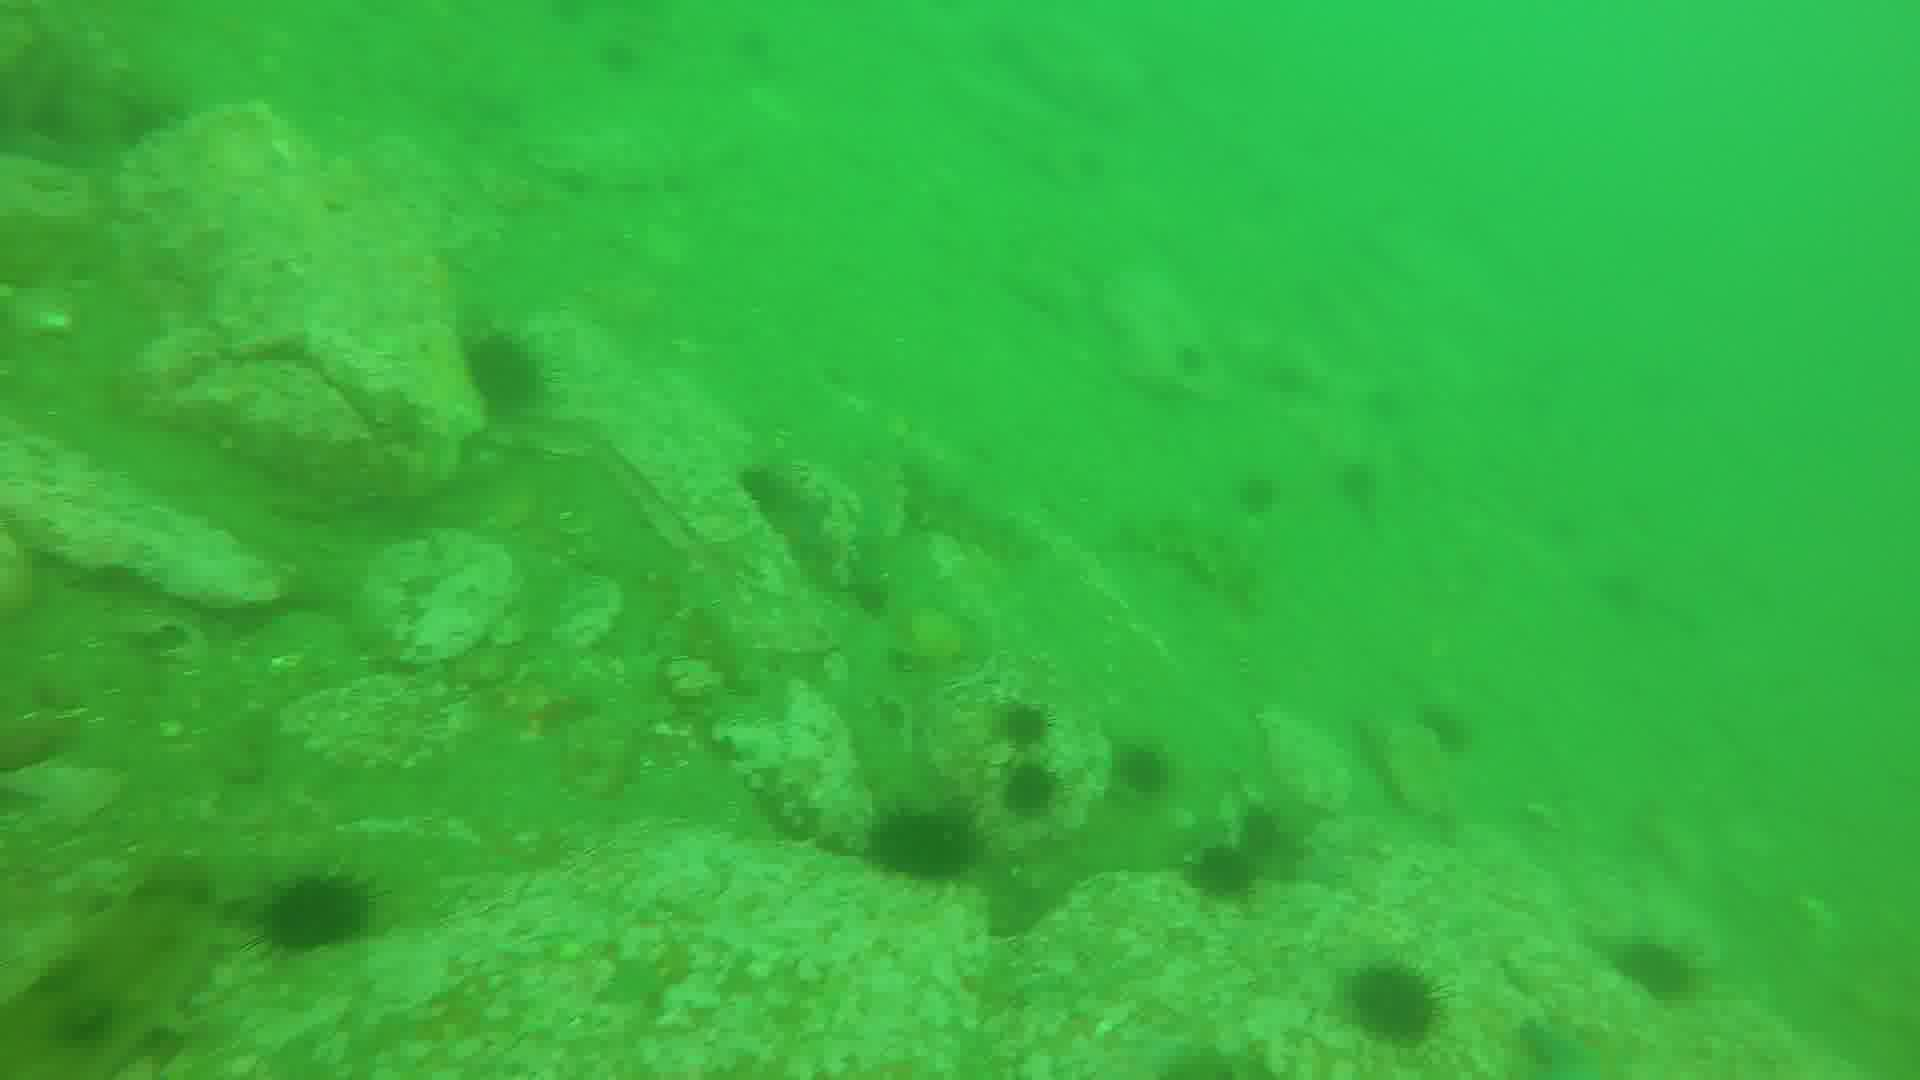echinus: (1338, 959, 1437, 1059), (876, 804, 984, 886), (258, 874, 376, 949), (1615, 936, 1704, 1013), (468, 338, 546, 419), (1185, 843, 1273, 909), (1234, 800, 1294, 873), (1118, 746, 1179, 807), (1422, 702, 1484, 760), (1002, 764, 1065, 820), (1004, 704, 1052, 761)
holothurian: (1, 852, 237, 1080), (1142, 520, 1269, 618)
starfish: (1514, 1019, 1655, 1080)
